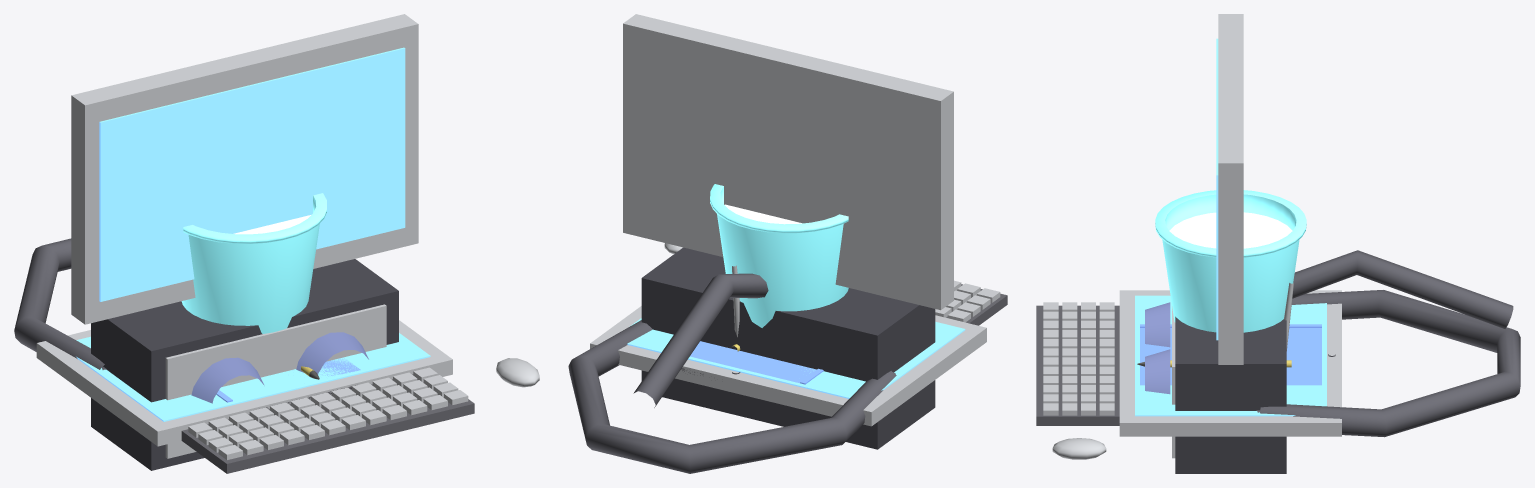
Rendered from items.glb.
The picture shows the model from 3 angles, left to right: view 1: azimuth 30°, elevation 25°; view 2: azimuth 150°, elevation 25°; view 3: azimuth 270°, elevation 25°; orthographic projection. The views are drawn at different scales.
Visible parts, largest first — view 1: computer, vr, ipad, bath, homework; view 2: computer, vr, ipad, bath, homework; view 3: vr, computer, bath, ipad, homework.
Boxes of the visible parts, left/top/right/bottom form: computer: left=71, top=14, right=539, bottom=473; vr: left=14, top=238, right=398, bottom=470; ipad: left=36, top=320, right=452, bottom=446; bath: left=181, top=193, right=326, bottom=333; homework: left=216, top=358, right=360, bottom=402; computer: left=623, top=14, right=1007, bottom=325; vr: left=568, top=247, right=935, bottom=473; ipad: left=590, top=306, right=986, bottom=426; bath: left=710, top=184, right=848, bottom=327; homework: left=690, top=341, right=823, bottom=384; vr: left=1145, top=250, right=1520, bottom=473; computer: left=1036, top=14, right=1243, bottom=459; bath: left=1155, top=190, right=1306, bottom=332; ipad: left=1119, top=290, right=1341, bottom=436; homework: left=1137, top=324, right=1321, bottom=385.
Bounding box in the file's own units: 0.7827 × 0.72 × 0.9582.
